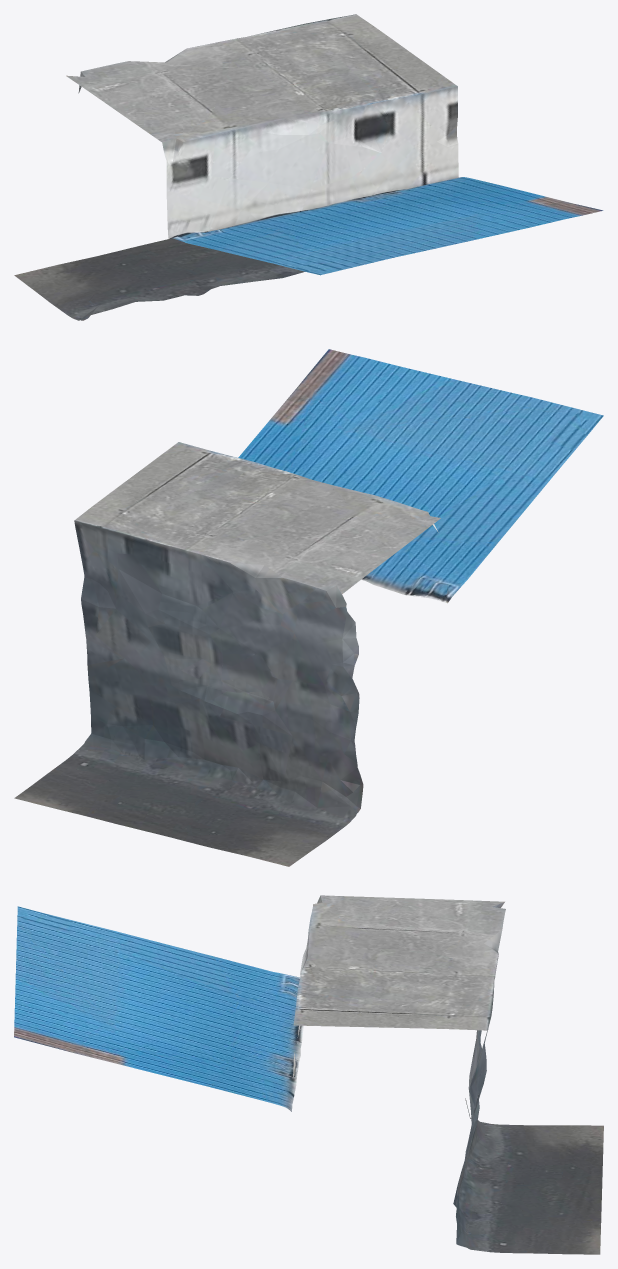
File: Tile_+008_+003_L21_0uuuu010.glb
3 renders of one model, top to bottom at view 1: azimuth 30°, elevation 25°; view 2: azimuth 150°, elevation 25°; view 3: azimuth 270°, elevation 25°, orthographic. The views are drawn at different scales.
Visible parts, largest first — view 1: rtc; view 2: rtc; view 3: rtc.
Part boxes in pixels (x1,y1,x2,y2): rtc: (14,14,603,320); rtc: (14,349,603,866); rtc: (14,895,603,1254).
Bounding box in the file's own units: 11.61 × 9.45 × 21.98.
1 material, 1 textured.
